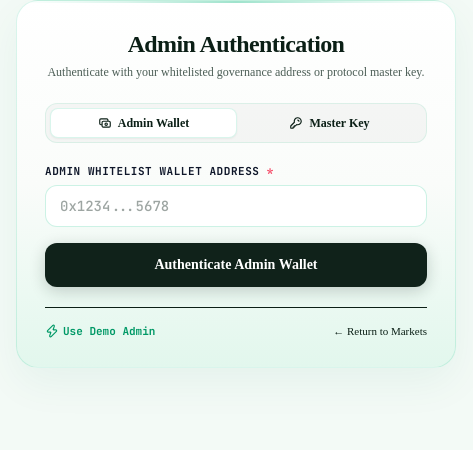
AdminLoginForm Component › shows validation error when submitting empty wallet address
This screenshot has width=473, height=450.
Click the button "Authenticate Admin Wallet". click: (236, 265)
box: [45,243,427,287]
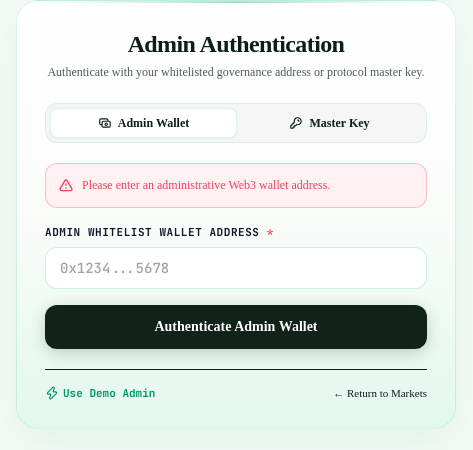
Now the text "Please enter an administrative Web3 wallet address." is shown, box [82,176,330,195]
